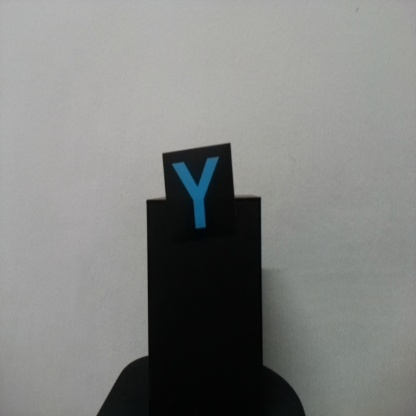id_14: (163, 151, 235, 234)
